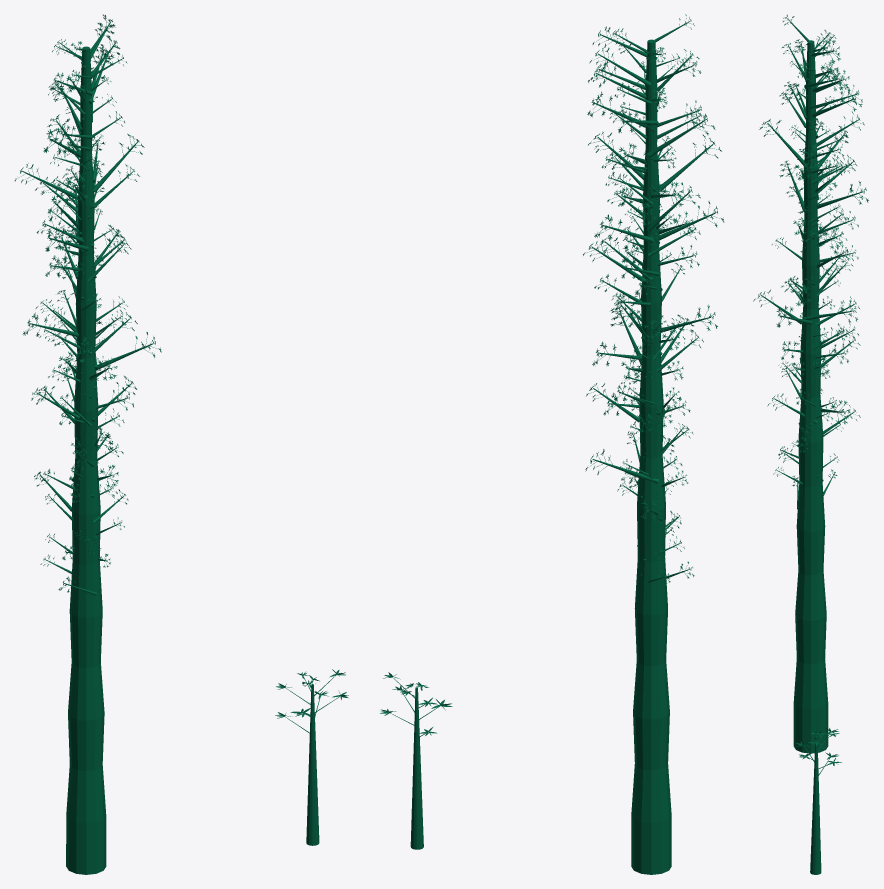
File: Bamboo.fbx
3 views of the same model, side by side, from view 1: azimuth 30°, elevation 25°; view 2: azimuth 150°, elevation 25°; view 3: azimuth 270°, elevation 25° (orthographic). The views are drawn at different scales.
Visible parts, largest first — view 1: Cylinder, Cylinder.001; view 2: Cylinder, Cylinder.001; view 3: Cylinder, Cylinder.001.
Boxes of the visible parts, x1=… form: Cylinder: x1=14, y1=14, x2=161, y2=874; Cylinder.001: x1=275, y1=669, x2=348, y2=845; Cylinder: x1=583, y1=14, x2=724, y2=874; Cylinder.001: x1=380, y1=672, x2=452, y2=849; Cylinder: x1=753, y1=14, x2=868, y2=753; Cylinder.001: x1=794, y1=728, x2=841, y2=874.
Bounding box in the file's own units: 375 × 958 × 134.
